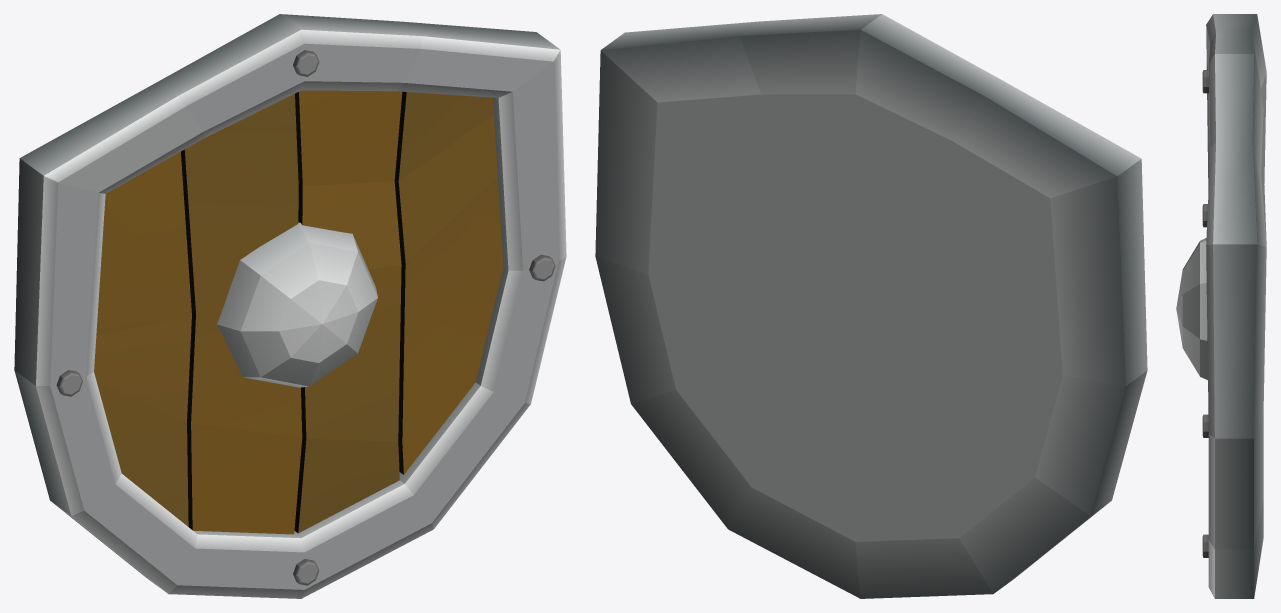
Rendered from shield_5.fbx.
3 renders of one model, left to right at view 1: azimuth 30°, elevation 25°; view 2: azimuth 150°, elevation 25°; view 3: azimuth 270°, elevation 25°, orthographic. The views are drawn at different scales.
Visible parts, largest first — view 1: shield_5; view 2: shield_5; view 3: shield_5.
Boxes of the visible parts, x1,y1,x2,y2 form: shield_5: (14, 14, 566, 598); shield_5: (595, 14, 1147, 598); shield_5: (1176, 14, 1266, 598).
Size of the model in its own units: 0.5055 by 0.5182 by 0.0817.
